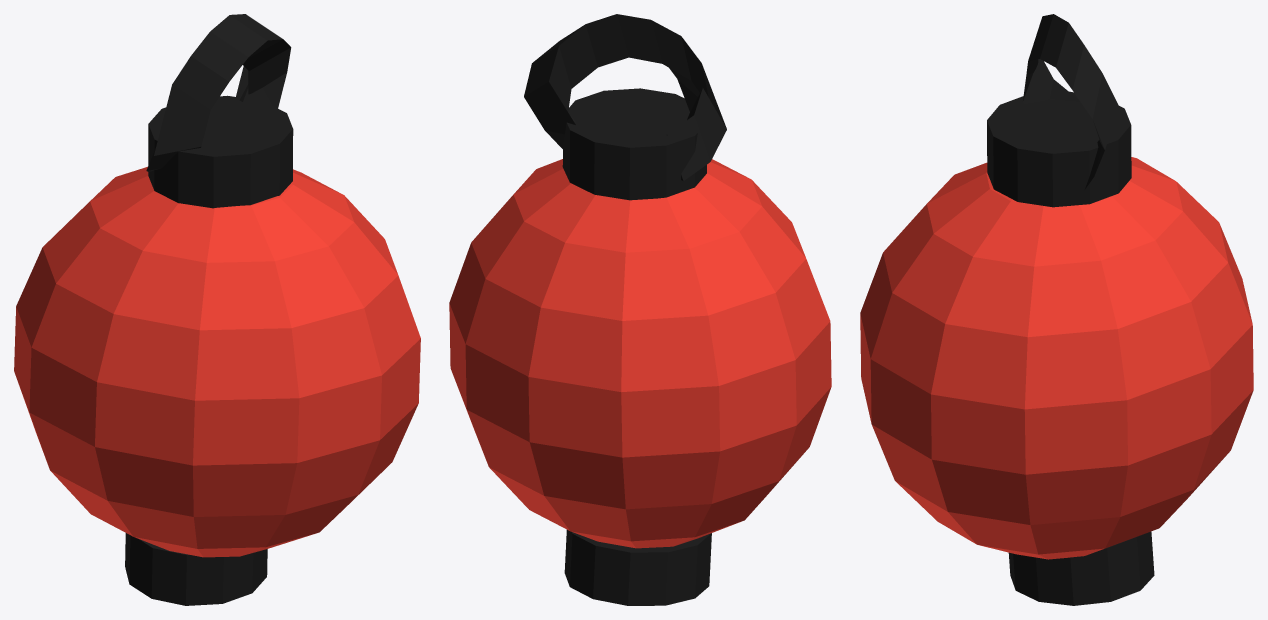
The model's file is lantern.glb.
3 renders of one model, left to right at view 1: azimuth 30°, elevation 25°; view 2: azimuth 150°, elevation 25°; view 3: azimuth 270°, elevation 25°, orthographic. The views are drawn at different scales.
Visible parts, largest first — view 1: group133018764, group839295325, group1264860141, group113932148; view 2: group133018764, group839295325, group1264860141, group113932148; view 3: group133018764, group839295325, group113932148, group1264860141.
Part boxes in pixels (x1=…): group133018764: x1=14, y1=166, x2=420, y2=557; group839295325: x1=148, y1=95, x2=293, y2=208; group1264860141: x1=146, y1=14, x2=291, y2=171; group113932148: x1=125, y1=533, x2=267, y2=605; group133018764: x1=449, y1=159, x2=831, y2=548; group839295325: x1=562, y1=88, x2=706, y2=200; group1264860141: x1=524, y1=14, x2=726, y2=180; group113932148: x1=564, y1=530, x2=711, y2=605; group133018764: x1=860, y1=157, x2=1253, y2=559; group839295325: x1=987, y1=91, x2=1131, y2=207; group113932148: x1=1008, y1=531, x2=1154, y2=605; group1264860141: x1=1023, y1=14, x2=1118, y2=189.
Bounding box in the file's own units: 0.4815 × 0.7467 × 0.4667.
